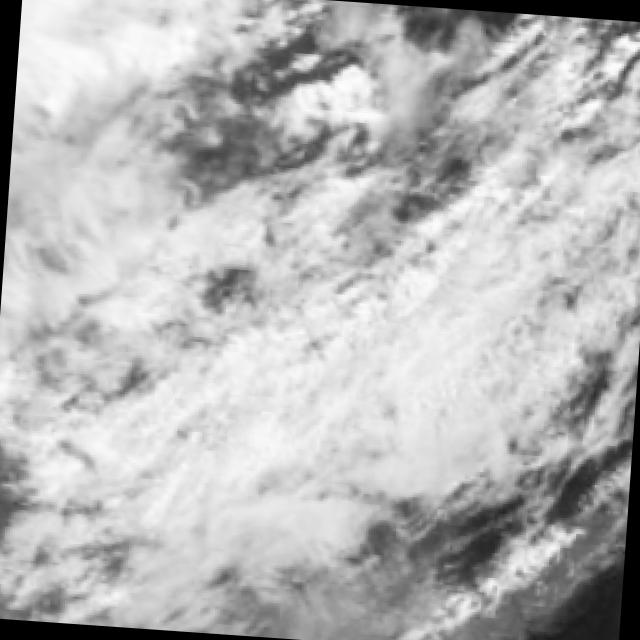CB: (352, 222, 578, 430), (178, 333, 390, 524), (15, 351, 202, 545), (0, 150, 171, 361), (120, 454, 298, 638), (12, 0, 223, 152)
